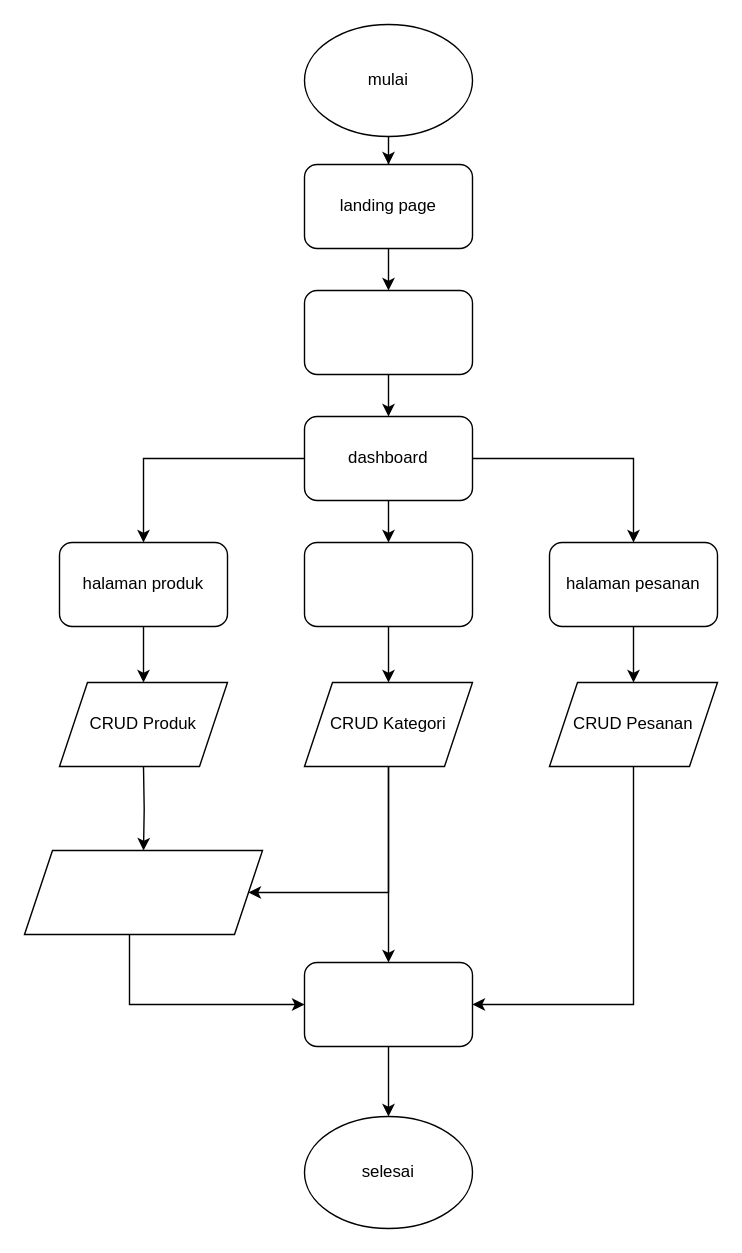
Image size: 742x1253. Some labels were removed from this diagram. Each missing label, with the centre of its shape:
halaman kategori: pixel 387 583
Login: pixel 387 331
logout: pixel 387 1003
tambahkan kategori pada produk: pixel 142 891
